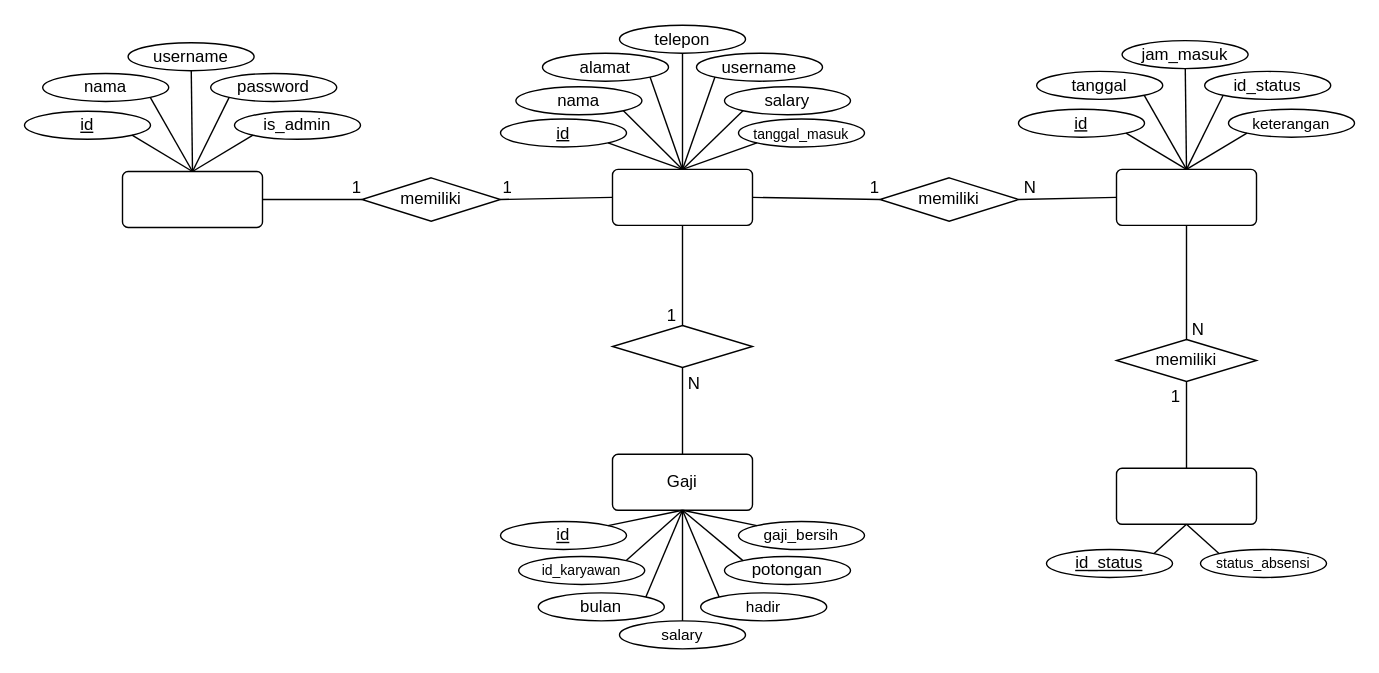
The diagram is 1379 pixels wide and 673 high, and some of its shapes have lost their labels. Here are the shapes that lost their labels. From the top down, the box of each, then its label:
(121, 170, 262, 227): Users
(611, 168, 752, 225): Karyawan
(1115, 168, 1256, 225): Absensi
(611, 324, 752, 368): mendapat
(1115, 467, 1256, 524): Status
